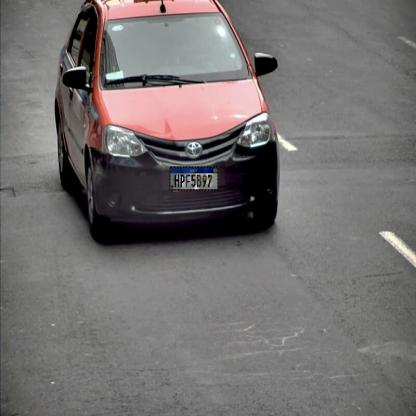PlacaM: (170, 166, 218, 191)
